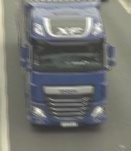truck: (22, 0, 114, 138)
